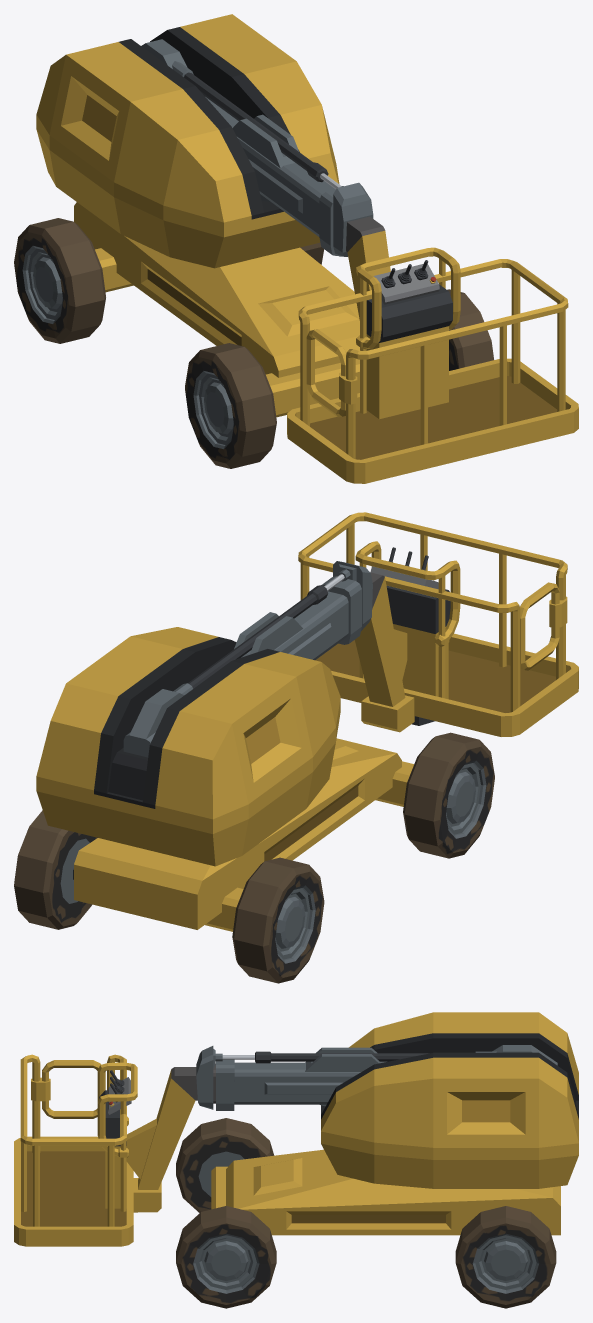
Rendered from SM_Veh_Cherry_Picker_01.fbx.
3 views of the same model, one above another, from view 1: azimuth 30°, elevation 25°; view 2: azimuth 150°, elevation 25°; view 3: azimuth 270°, elevation 25° (orthographic). The views are drawn at different scales.
Parts seen in each view (by area): view 1: SM_Veh_Cherry_Picker_01_Top, SM_Veh_Cherry_Picker_01_Cage, SM_Veh_Cherry_Picker_01, SM_Veh_Cherry_Picker_01_Wheel_fr, SM_Veh_Cherry_Picker_01_Wheel_rr, SM_Veh_Cherry_Picker_01_Arm_01, SM_Veh_Cherry_Picker_01_Arm_03, SM_Veh_Cherry_Picker_01_Wheel_fl, SM_Veh_Cherry_Picker_01_Arm_02, SM_Veh_Cherry_Picker_01_Cage_Door; view 2: SM_Veh_Cherry_Picker_01_Top, SM_Veh_Cherry_Picker_01_Cage, SM_Veh_Cherry_Picker_01, SM_Veh_Cherry_Picker_01_Wheel_rr, SM_Veh_Cherry_Picker_01_Wheel_fr, SM_Veh_Cherry_Picker_01_Arm_01, SM_Veh_Cherry_Picker_01_Wheel_rl, SM_Veh_Cherry_Picker_01_Arm_03, SM_Veh_Cherry_Picker_01_Cage_Door, SM_Veh_Cherry_Picker_01_Arm_02; view 3: SM_Veh_Cherry_Picker_01_Top, SM_Veh_Cherry_Picker_01, SM_Veh_Cherry_Picker_01_Cage, SM_Veh_Cherry_Picker_01_Wheel_rl, SM_Veh_Cherry_Picker_01_Wheel_fl, SM_Veh_Cherry_Picker_01_Arm_01, SM_Veh_Cherry_Picker_01_Arm_03, SM_Veh_Cherry_Picker_01_Wheel_fr, SM_Veh_Cherry_Picker_01_Arm_02, SM_Veh_Cherry_Picker_01_Cage_Door.
Boxes of the visible parts, x1,y1,x2,y2 form: SM_Veh_Cherry_Picker_01_Top: (36, 14, 339, 268); SM_Veh_Cherry_Picker_01_Cage: (287, 247, 578, 483); SM_Veh_Cherry_Picker_01: (74, 202, 359, 417); SM_Veh_Cherry_Picker_01_Wheel_fr: (185, 343, 276, 468); SM_Veh_Cherry_Picker_01_Wheel_rr: (14, 218, 105, 343); SM_Veh_Cherry_Picker_01_Arm_01: (141, 39, 337, 255); SM_Veh_Cherry_Picker_01_Arm_03: (346, 216, 390, 320); SM_Veh_Cherry_Picker_01_Wheel_fl: (447, 289, 493, 370); SM_Veh_Cherry_Picker_01_Arm_02: (320, 173, 373, 256); SM_Veh_Cherry_Picker_01_Cage_Door: (306, 329, 346, 417); SM_Veh_Cherry_Picker_01_Top: (36, 627, 340, 866); SM_Veh_Cherry_Picker_01_Cage: (298, 512, 578, 736); SM_Veh_Cherry_Picker_01: (73, 738, 413, 931); SM_Veh_Cherry_Picker_01_Wheel_rr: (232, 857, 324, 983); SM_Veh_Cherry_Picker_01_Wheel_fr: (403, 732, 494, 858); SM_Veh_Cherry_Picker_01_Arm_01: (123, 576, 361, 757); SM_Veh_Cherry_Picker_01_Wheel_rl: (14, 810, 97, 929); SM_Veh_Cherry_Picker_01_Arm_03: (355, 572, 414, 732); SM_Veh_Cherry_Picker_01_Cage_Door: (520, 582, 559, 670); SM_Veh_Cherry_Picker_01_Arm_02: (324, 561, 372, 630); SM_Veh_Cherry_Picker_01_Top: (321, 1012, 578, 1188); SM_Veh_Cherry_Picker_01: (211, 1149, 560, 1235); SM_Veh_Cherry_Picker_01_Cage: (14, 1054, 137, 1246); SM_Veh_Cherry_Picker_01_Wheel_rl: (455, 1206, 556, 1308); SM_Veh_Cherry_Picker_01_Wheel_fl: (176, 1206, 276, 1308); SM_Veh_Cherry_Picker_01_Arm_01: (216, 1045, 557, 1110); SM_Veh_Cherry_Picker_01_Arm_03: (126, 1067, 197, 1212); SM_Veh_Cherry_Picker_01_Wheel_fr: (176, 1118, 274, 1212); SM_Veh_Cherry_Picker_01_Arm_02: (196, 1046, 254, 1109); SM_Veh_Cherry_Picker_01_Cage_Door: (42, 1060, 100, 1118).
Size of the model in its own units: 194 by 189 by 454.
